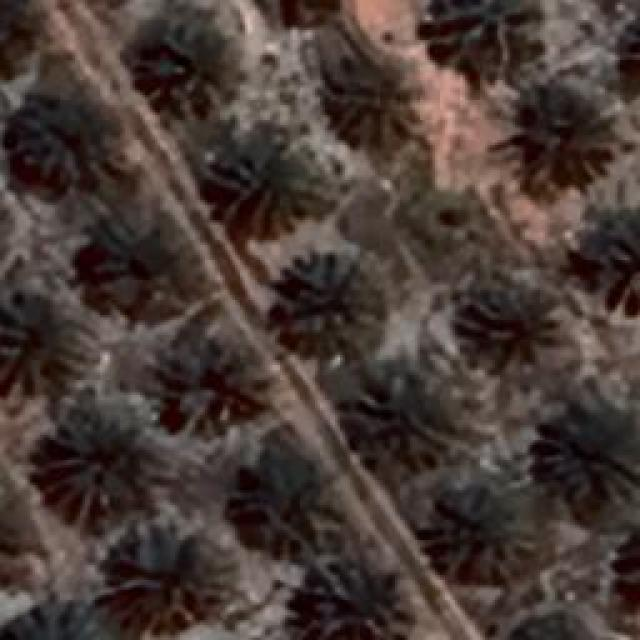PalmTree: (39, 395, 172, 523), (538, 382, 638, 502), (90, 212, 205, 316), (320, 42, 422, 156), (508, 80, 612, 190), (280, 250, 382, 362), (12, 88, 128, 182), (215, 135, 318, 240), (120, 531, 228, 631), (355, 374, 463, 468), (241, 448, 341, 548), (430, 488, 535, 582), (0, 290, 88, 395), (165, 336, 263, 426), (140, 28, 242, 112), (470, 269, 562, 359), (302, 560, 408, 638), (425, 0, 540, 62), (587, 200, 640, 325), (0, 466, 42, 598), (0, 0, 56, 81), (482, 607, 594, 640), (11, 605, 114, 640), (608, 531, 640, 623), (257, 0, 342, 30)
